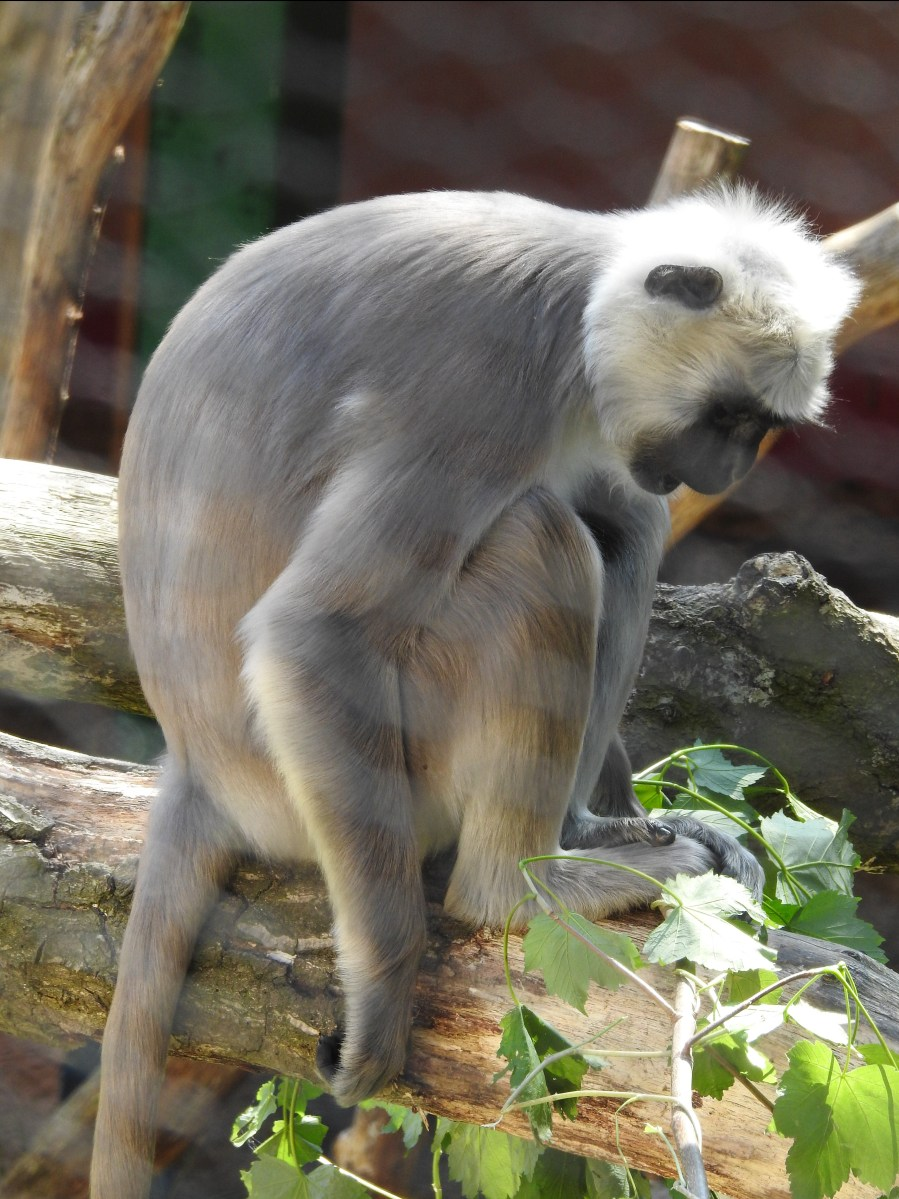monkey: (87, 174, 899, 1197)
